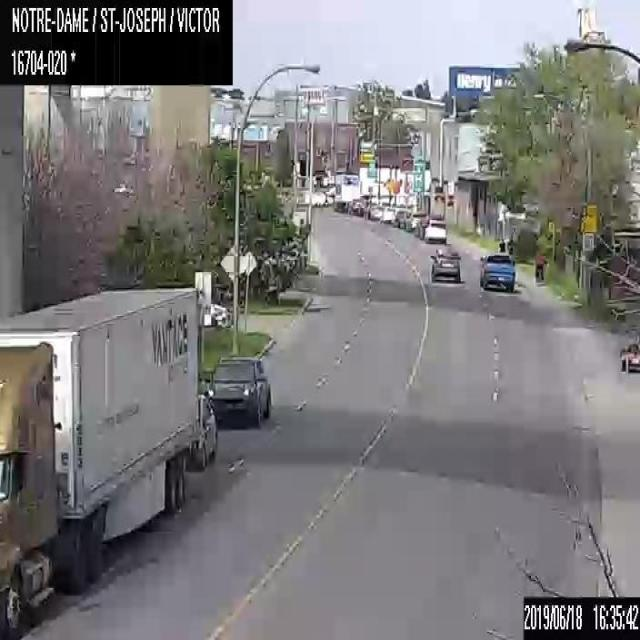construction: (606, 222, 639, 372)
pedestrian: (535, 254, 546, 282), (498, 236, 505, 252), (507, 238, 514, 253)
vehicle: (0, 288, 198, 639), (206, 356, 271, 428), (192, 395, 217, 470), (479, 252, 515, 291), (430, 248, 460, 282), (424, 218, 446, 244), (203, 302, 225, 326), (406, 212, 426, 229), (392, 210, 410, 228), (414, 219, 428, 238), (380, 205, 392, 222), (370, 207, 380, 219)
